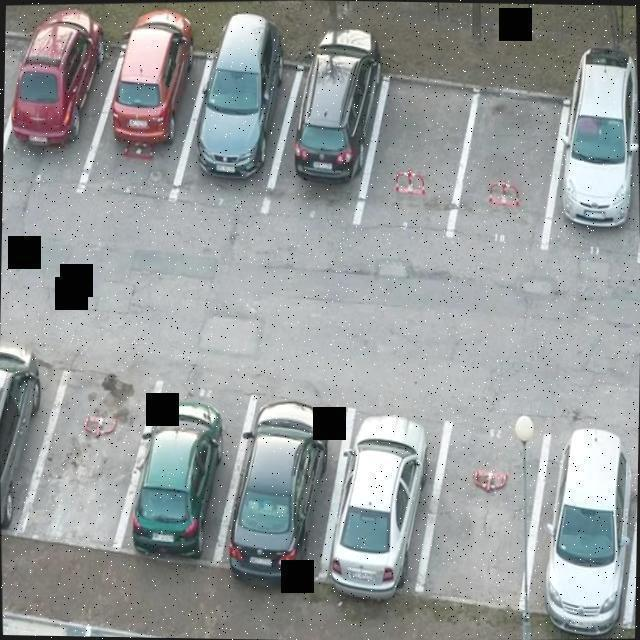occupied: (524, 409, 638, 626), (424, 413, 546, 596), (27, 371, 143, 558), (229, 386, 337, 585), (316, 392, 427, 581), (126, 368, 238, 555), (187, 38, 283, 205), (286, 41, 373, 218), (462, 73, 549, 250), (371, 68, 462, 232), (556, 74, 640, 246), (98, 31, 188, 191), (14, 16, 100, 179), (0, 337, 43, 535), (3, 18, 16, 180)
